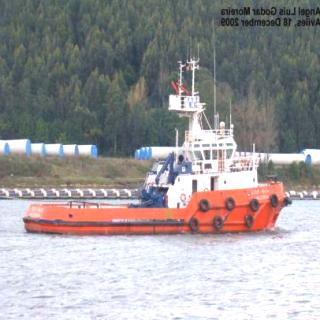Tug Boat: (23, 86, 290, 234)
